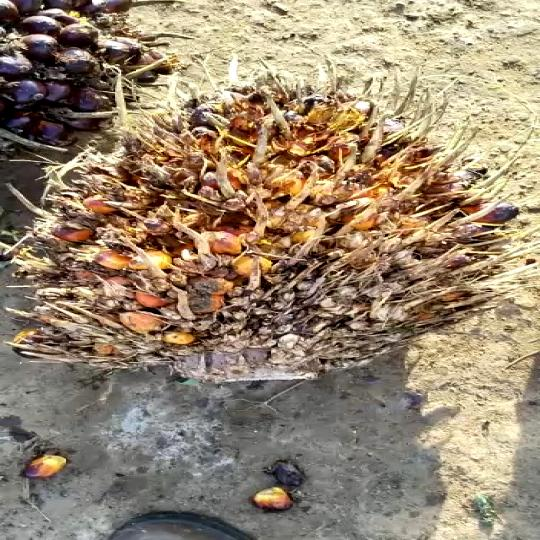terlalu masak: (10, 46, 540, 398)
